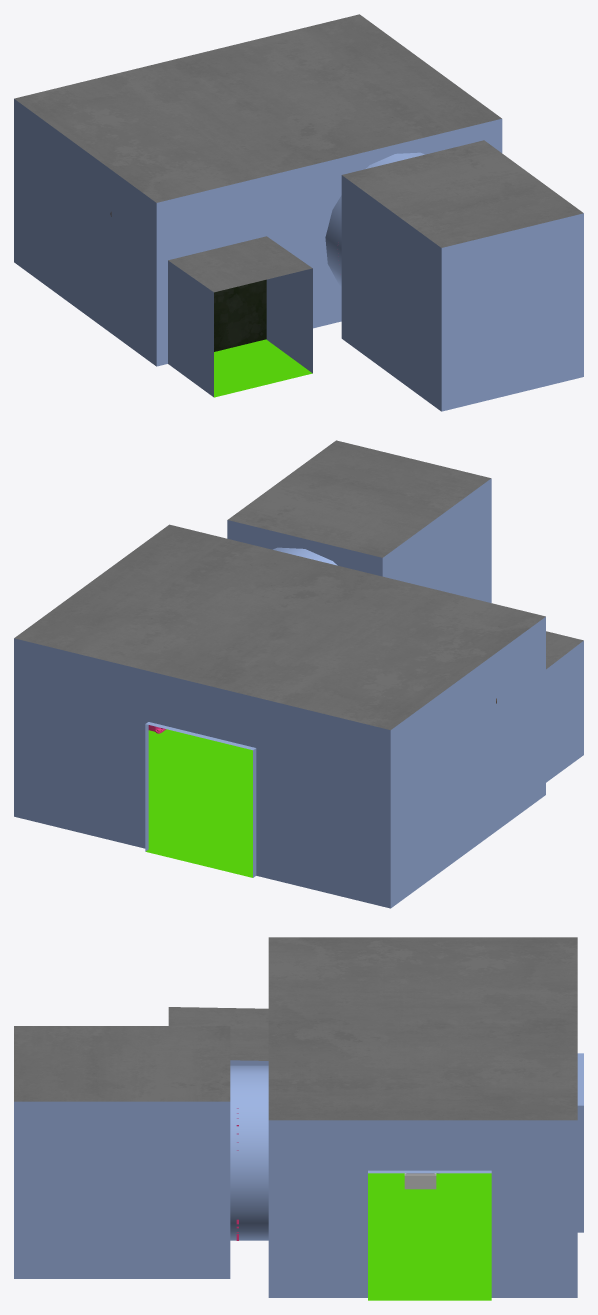
The model's file is RoomS2.fbx.
3 renders of one model, top to bottom at view 1: azimuth 30°, elevation 25°; view 2: azimuth 150°, elevation 25°; view 3: azimuth 270°, elevation 25°, orthographic. The views are drawn at different scales.
Parts seen in each view (by area): view 1: Plane.003, Plane.001, Plane.011, Двери.005; view 2: Plane.003, Plane.001, Plane.011; view 3: Plane.003, Plane.001, Plane.011, Cube.
Part boxes in pixels (x1=…): Plane.003: x1=14, y1=99, x2=583, y2=411; Plane.001: x1=14, y1=14, x2=583, y2=292; Plane.011: x1=214, y1=339, x2=312, y2=397; Двери.005: x1=217, y1=279, x2=266, y2=351; Plane.003: x1=14, y1=478, x2=583, y2=908; Plane.001: x1=14, y1=440, x2=583, y2=730; Plane.011: x1=146, y1=729, x2=252, y2=877; Plane.003: x1=14, y1=1053, x2=583, y2=1297; Plane.001: x1=14, y1=937, x2=577, y2=1120; Plane.011: x1=368, y1=1173, x2=491, y2=1300; Cube: x1=404, y1=1173, x2=436, y2=1189.
Bounding box in the file's own units: 711 × 318 × 922.
